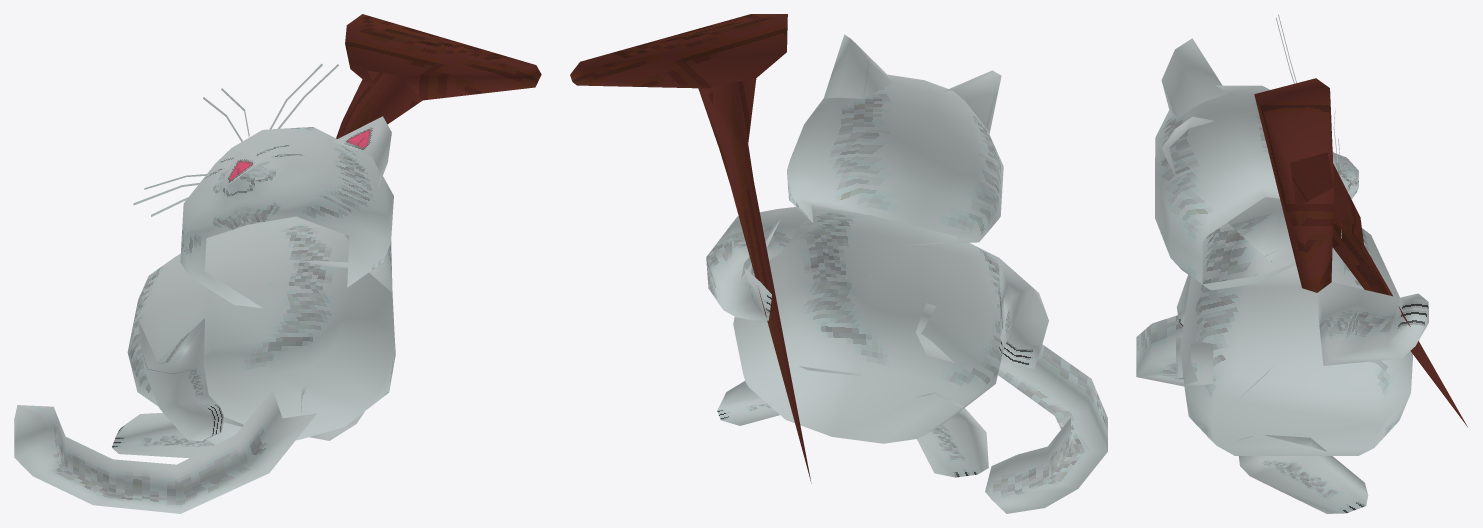
The model's file is ps2_save-icons_dragonballzbudokaitenkaichi2.glb.
The picture shows the model from 3 angles, left to right: view 1: azimuth 30°, elevation 25°; view 2: azimuth 150°, elevation 25°; view 3: azimuth 270°, elevation 25°; orthographic projection. The views are drawn at different scales.
Parts seen in each view (by area): view 1: dbzsn.ico; view 2: dbzsn.ico; view 3: dbzsn.ico.
Boxes of the visible parts, x1,y1,x2,y2 form: dbzsn.ico: (14, 14, 541, 513); dbzsn.ico: (570, 14, 1107, 513); dbzsn.ico: (1136, 14, 1467, 513).
Bounding box in the file's own units: 4.21 × 3.08 × 2.18.
Materials: 1 (1 with a texture image).
